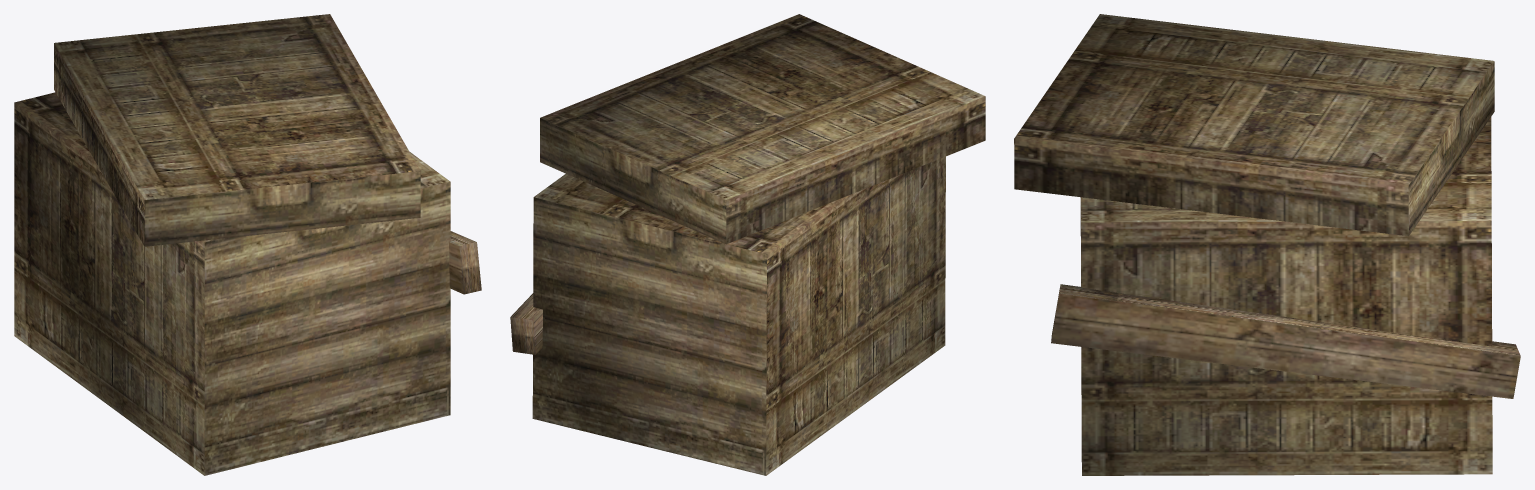
Rendered from S_Build_West027.FBX.
3 views of the same model, side by side, from view 1: azimuth 30°, elevation 25°; view 2: azimuth 150°, elevation 25°; view 3: azimuth 270°, elevation 25° (orthographic). The views are drawn at different scales.
Parts seen in each view (by area): view 1: S_Build_West027; view 2: S_Build_West027; view 3: S_Build_West027.
Part boxes in pixels (left/top/right/bottom): S_Build_West027: left=14, top=14, right=481, bottom=475; S_Build_West027: left=510, top=14, right=985, bottom=475; S_Build_West027: left=1014, top=14, right=1520, bottom=475.
Size of the model in its own units: 149 by 184 by 123.
